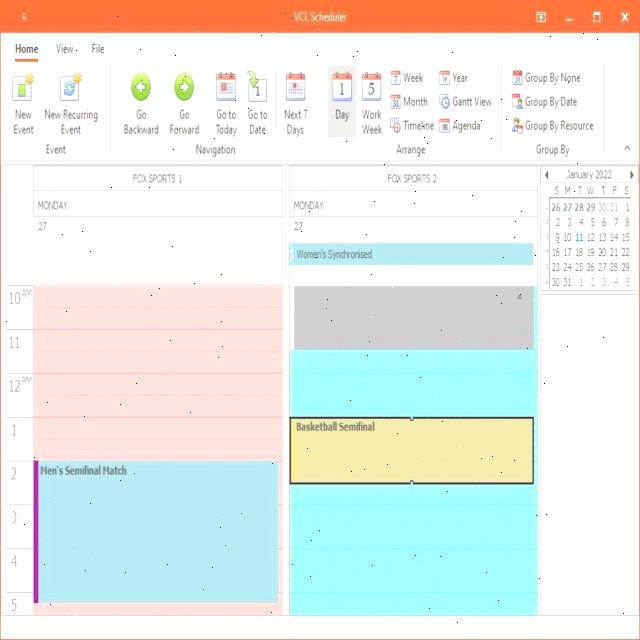button: (7, 68, 42, 109), (244, 67, 272, 111), (328, 65, 356, 106), (281, 68, 309, 106), (214, 67, 240, 107), (169, 71, 197, 108), (58, 70, 83, 108), (359, 64, 382, 104), (130, 71, 152, 107), (510, 68, 525, 88), (511, 88, 523, 113), (511, 112, 524, 134), (438, 115, 451, 136), (436, 70, 452, 86), (388, 90, 402, 108), (390, 68, 402, 88), (438, 92, 450, 110), (390, 114, 400, 134)
menu: (7, 41, 47, 62), (50, 34, 80, 62), (85, 36, 116, 60)
